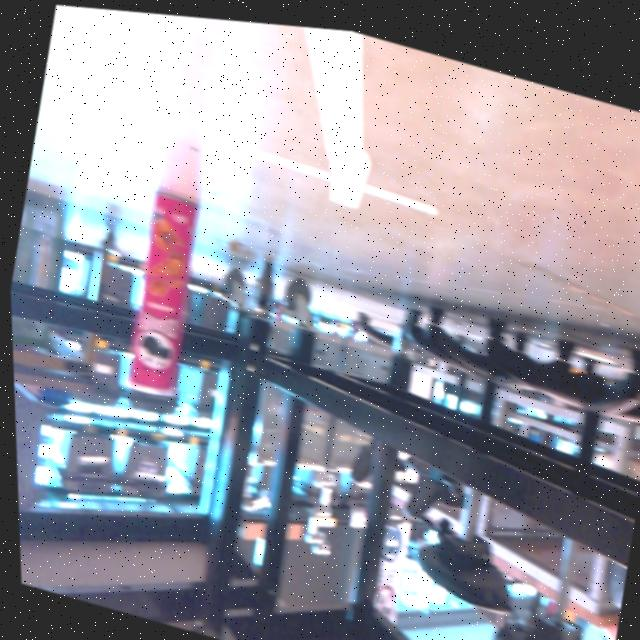redpringles: (98, 170, 231, 421)
